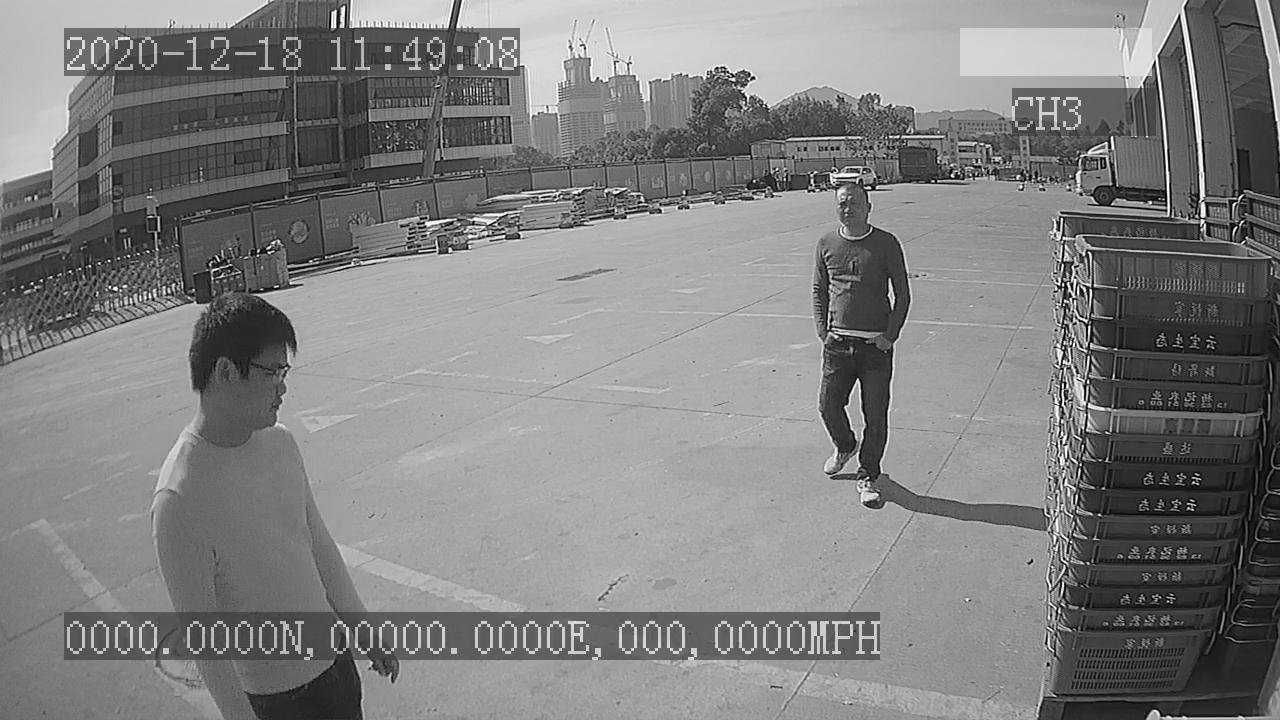person: (808, 177, 915, 510)
